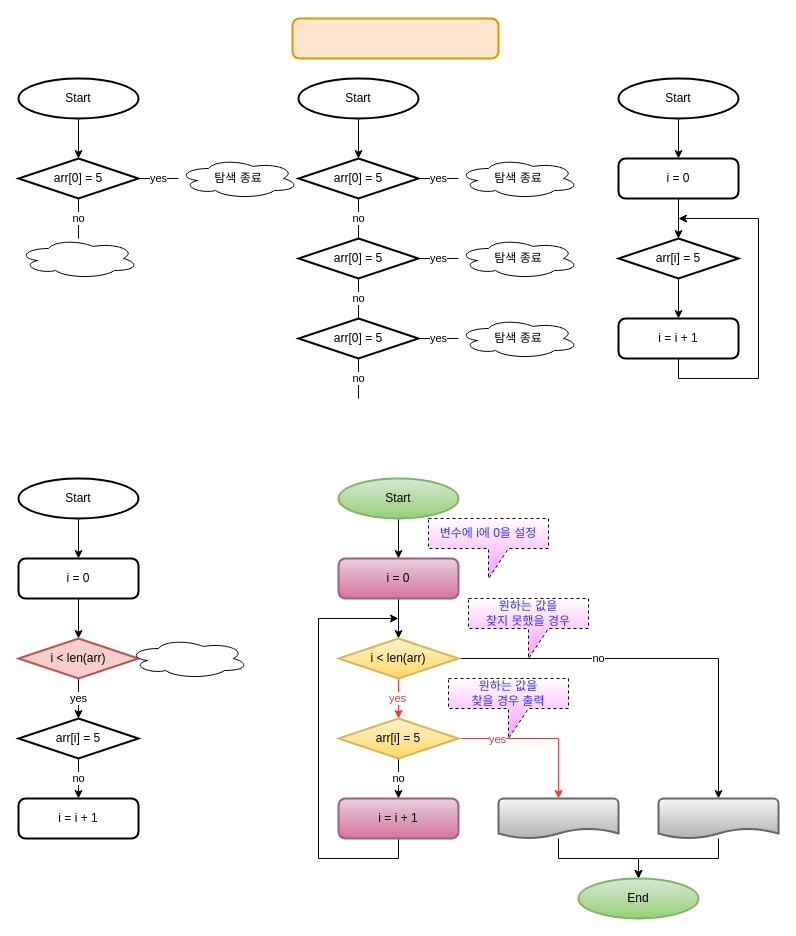
Image size: 796x936. Some labels were removed from this diagram. Each missing label, with the box of its shape:
'찾지 못했습니다.': (657, 797, 779, 839)
i번째 요소가 일치: (497, 797, 619, 839)
다음 요소: (18, 238, 138, 278)
반복문의 종료조건: (128, 638, 248, 678)
선형 탐색법: (291, 17, 499, 59)
